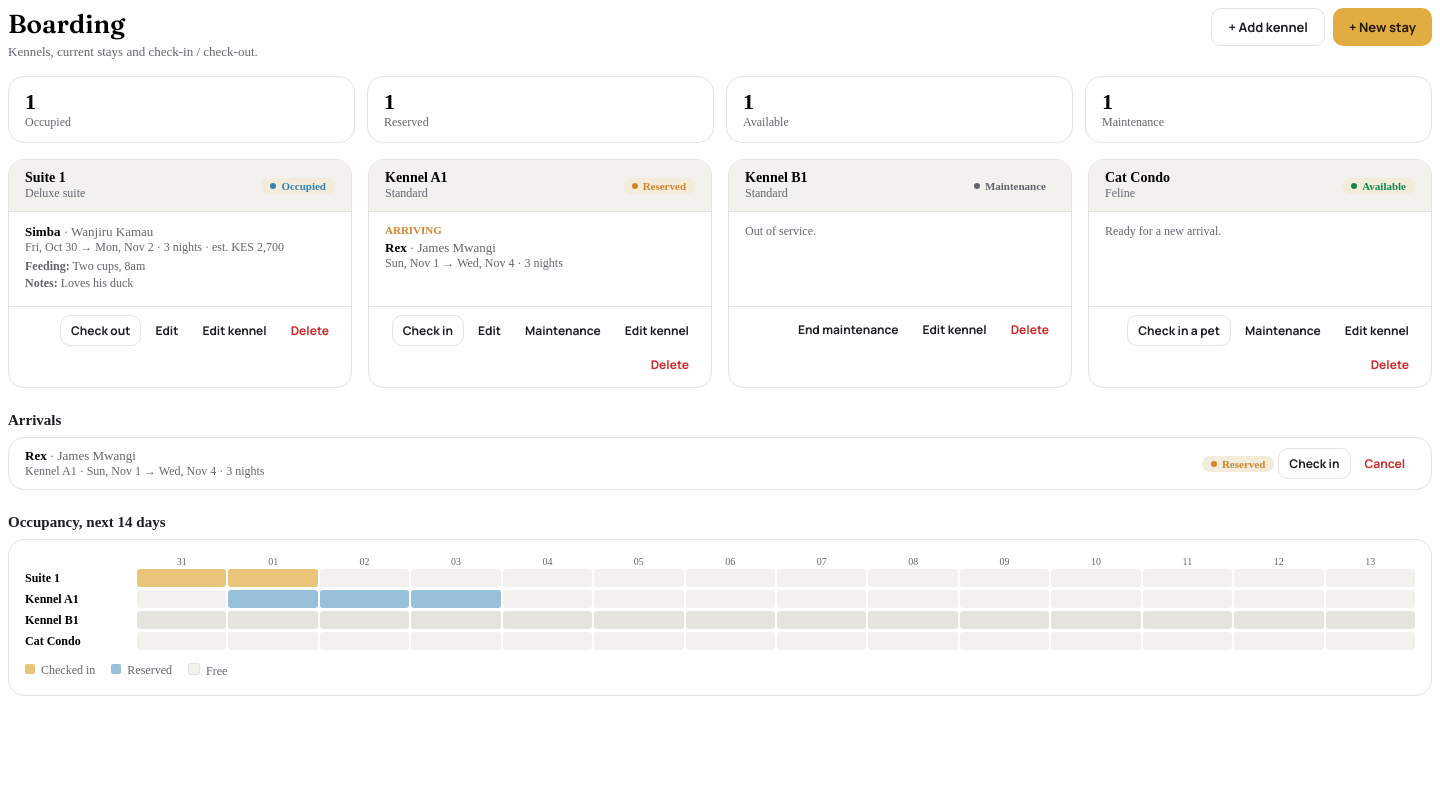
BoardingPage › starts a walk-in from an available kennel already set to check in now
Click the button with aria-label "Check in a pet to Cat Condo".
click(1179, 330)  # box x1=1127 y1=315 x2=1231 y2=346
(page scrolled)
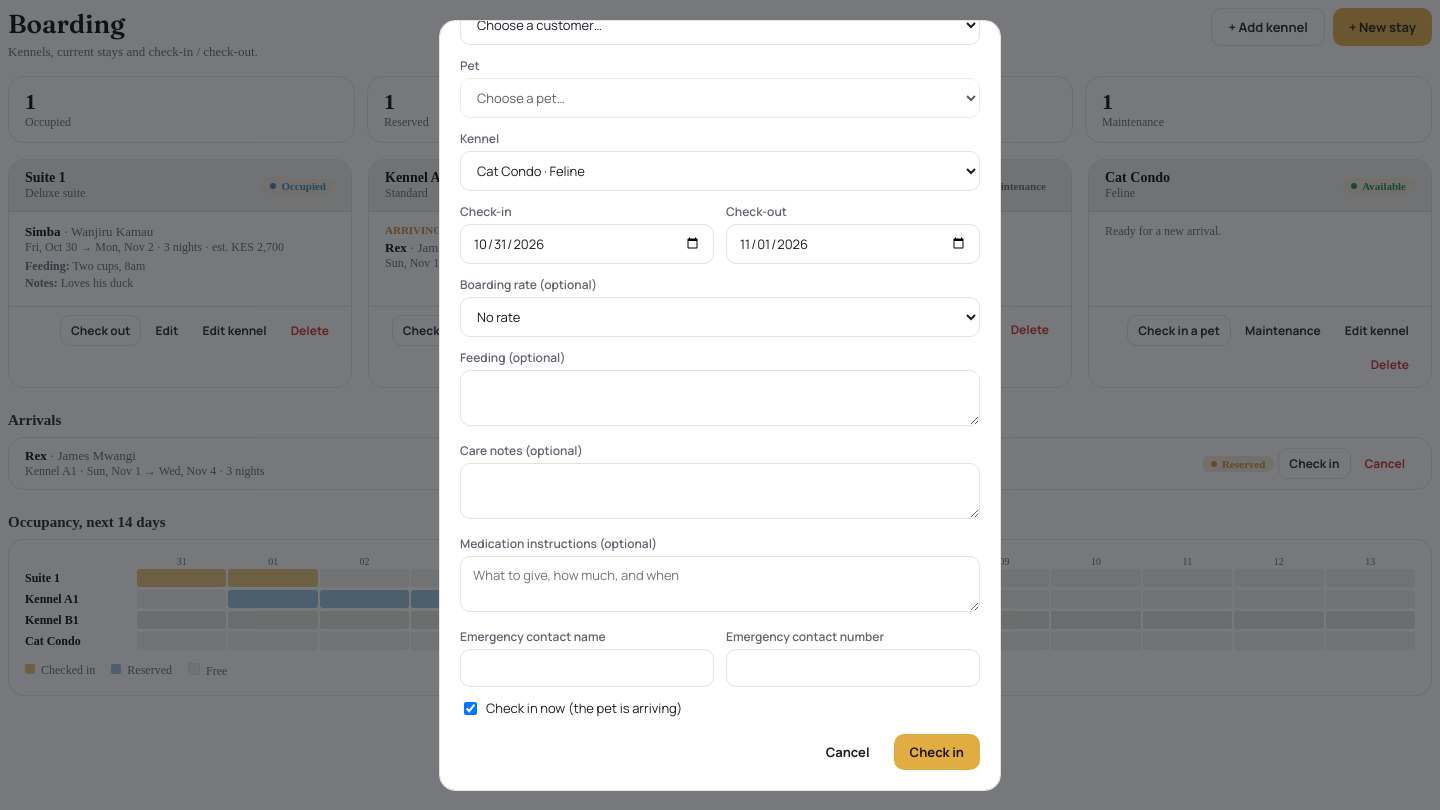
Now the dropdown labelled "Kennel" shows "Cat Condo · Feline", box x1=460 y1=150 x2=980 y2=190
Now the button "Check in" is shown, box x1=894 y1=734 x2=980 y2=770
